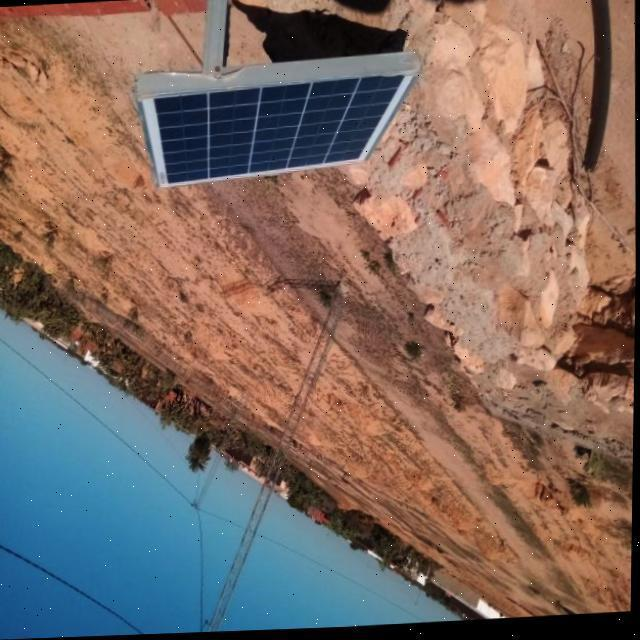Normal Solar Panel: (138, 75, 420, 190)
